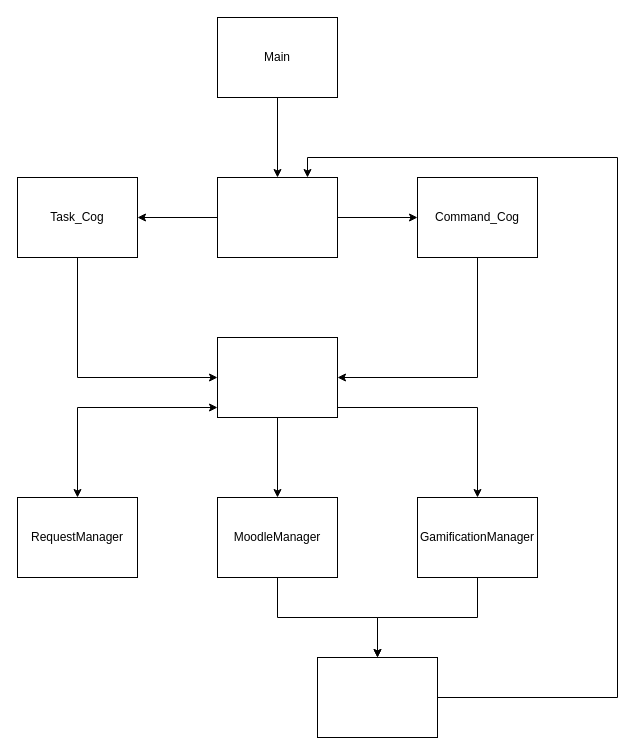
This 643x755 diagram has some shape labels left out. The shapes that lost their labels are listed below. From the top down, each one's centre as x and y in pixels, then its label:
At point 277,217: "MLCompanion".
At point 277,377: "GeneralManager".
At point 377,697: "ResponseManager".
